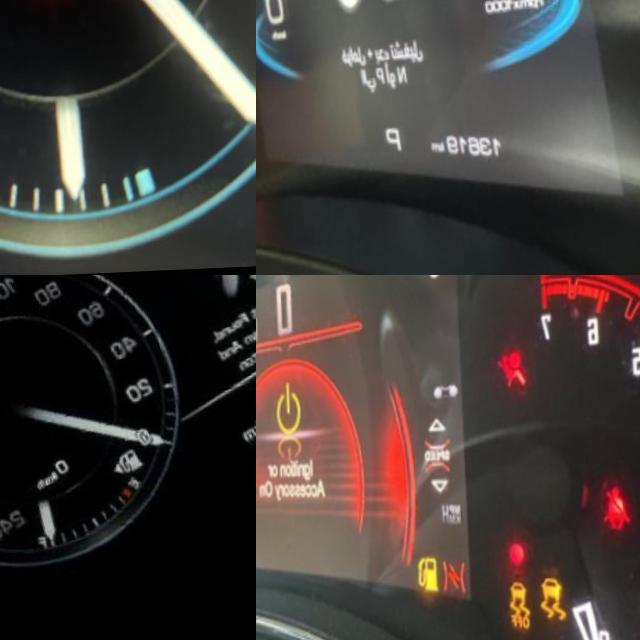Low fuel level: (109, 447, 149, 489), (411, 556, 437, 598)
